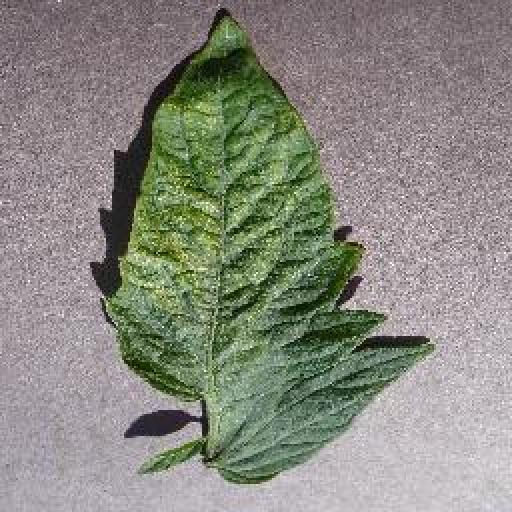Spider Mites: (99, 9, 432, 487)
